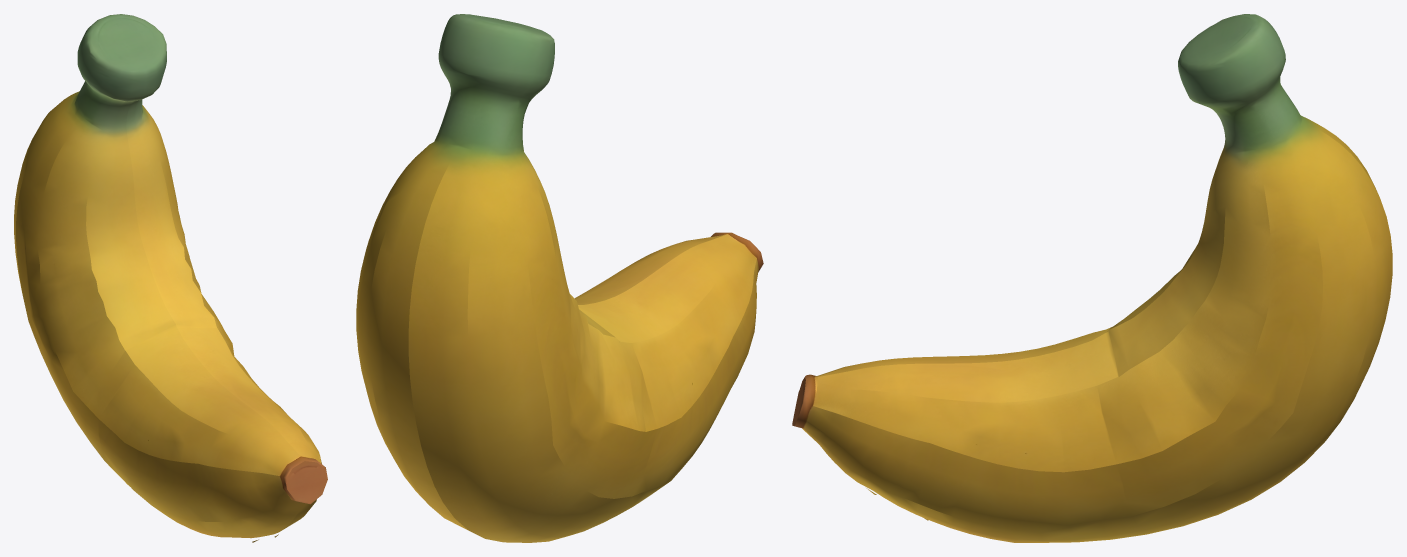
Rendered from base_basic_pbr.fbx.
The picture shows the model from 3 angles, left to right: view 1: azimuth 30°, elevation 25°; view 2: azimuth 150°, elevation 25°; view 3: azimuth 270°, elevation 25°; orthographic projection. The views are drawn at different scales.
Parts seen in each view (by area): view 1: model; view 2: model; view 3: model.
Part boxes in pixels (left/top/right/bottom): model: left=14, top=14, right=327, bottom=542; model: left=356, top=14, right=763, bottom=542; model: left=792, top=14, right=1392, bottom=542.
Bounding box in the file's own units: 65.72 × 173 × 183.
1 material, 1 textured.
